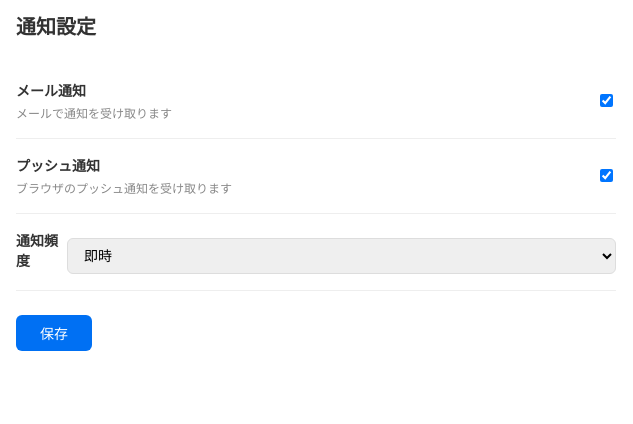
NotificationSettingsForm › 設定変更時に成功メッセージが消える（チェックボックス）
Submit the form from the button "保存", box [16, 315, 92, 351]
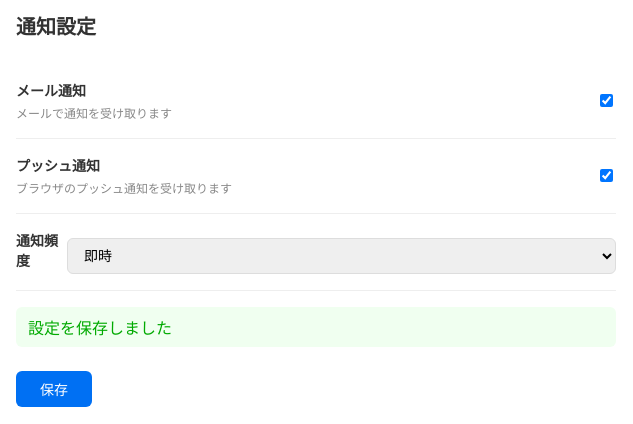
Expected: the text "設定を保存しました" is shown, [16, 307, 616, 347]
Click the switch labelled "メール通知" at (606, 101), box [600, 94, 613, 107]
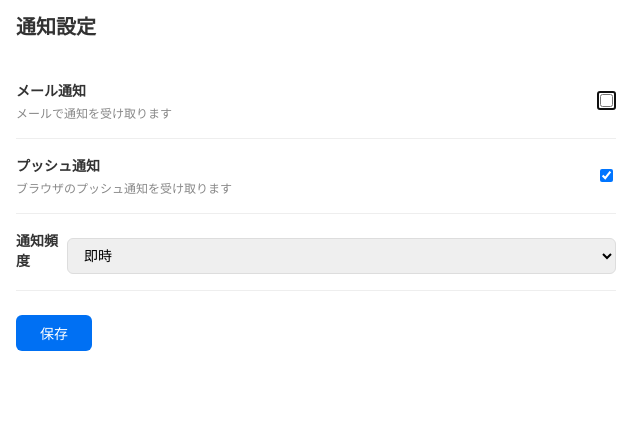
Expected: the text "設定を保存しました" is gone
